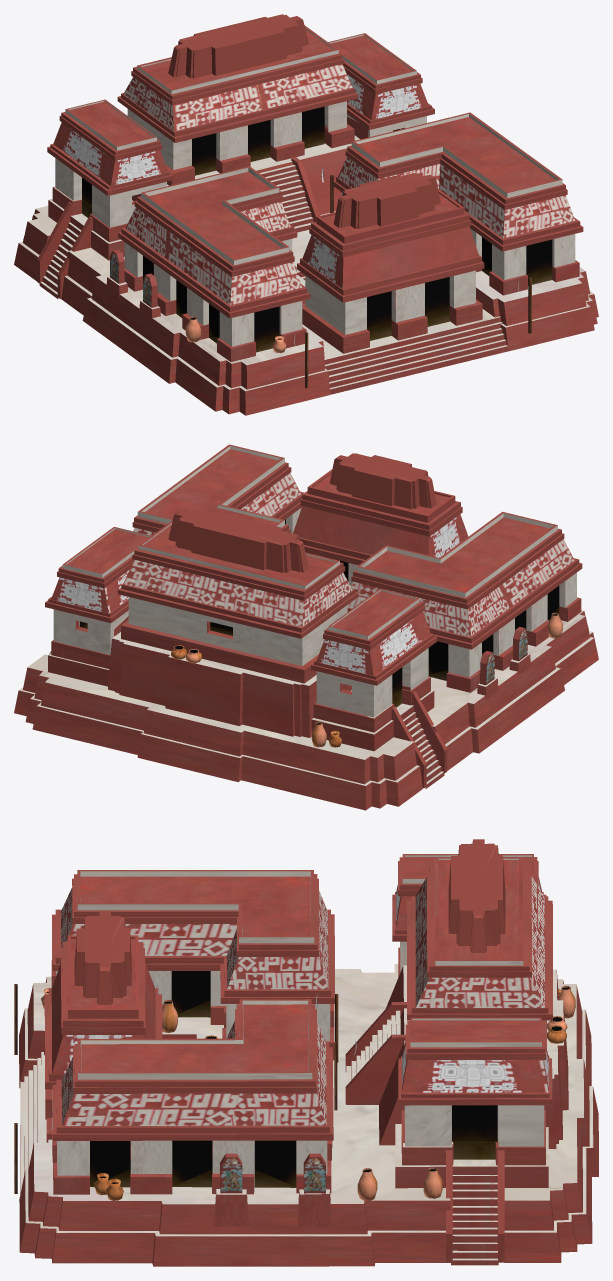
The model's file is palacio.dae.
The picture shows the model from 3 angles, top to bottom: view 1: azimuth 30°, elevation 25°; view 2: azimuth 150°, elevation 25°; view 3: azimuth 270°, elevation 25°; orthographic projection. The views are drawn at different scales.
Parts seen in each view (by area): view 1: palace_1; view 2: palace_1; view 3: palace_1.
Part boxes in pixels (x1=…): palace_1: x1=14, y1=14, x2=598, y2=415; palace_1: x1=14, y1=444, x2=598, y2=810; palace_1: x1=14, y1=839, x2=598, y2=1266.
Bounding box in the file's own units: 28.86 × 28.94 × 14.64.
